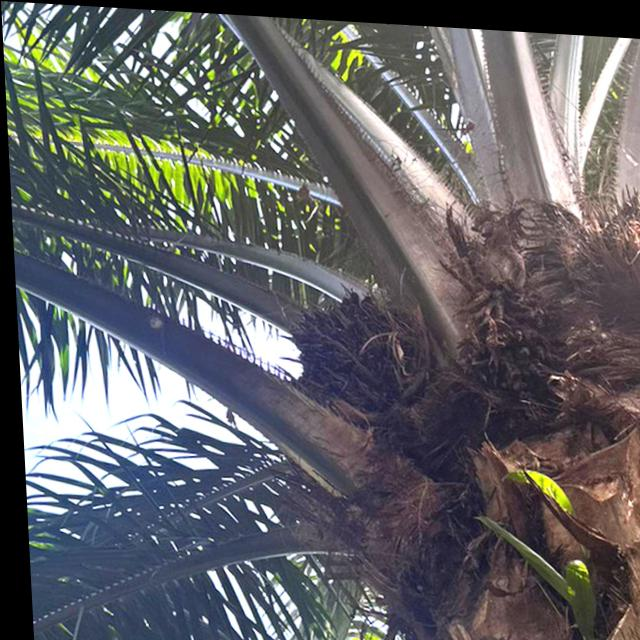ripe: (265, 264, 425, 420)
